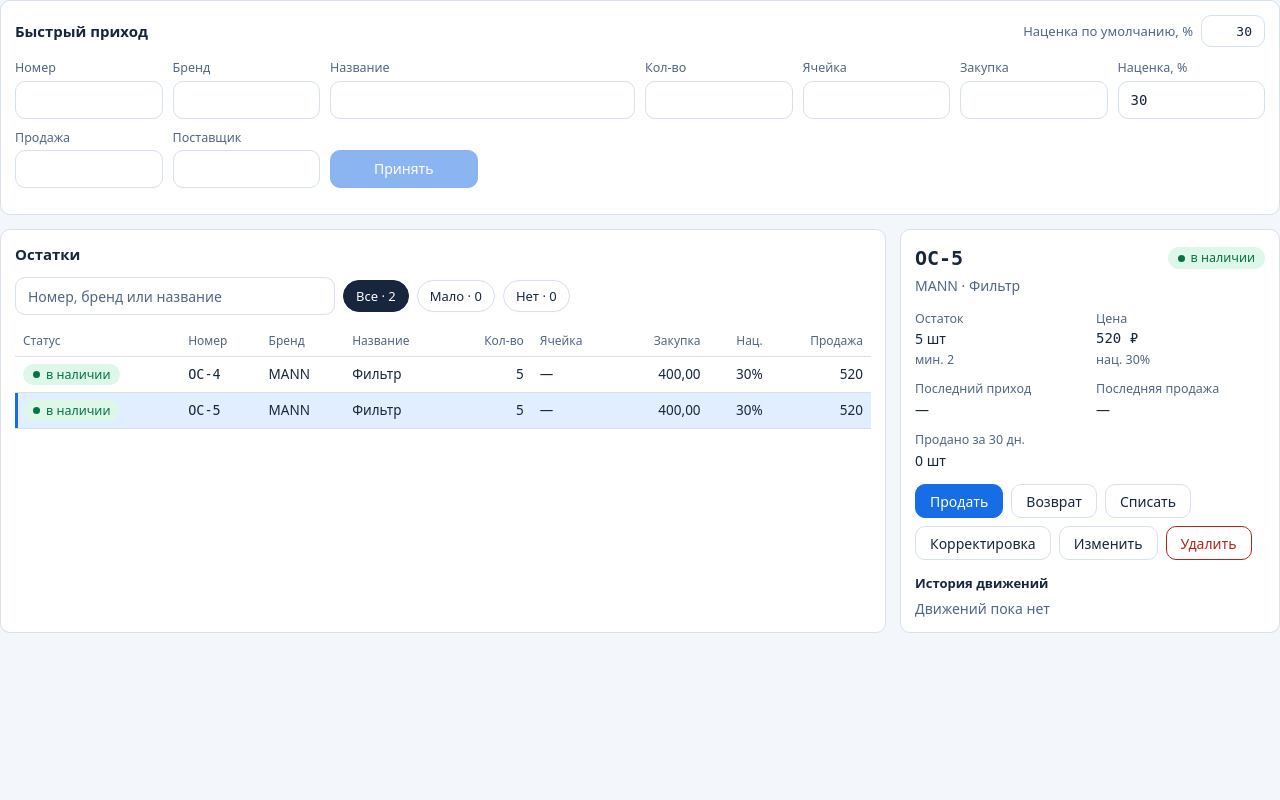
Test: clears the selection and flashes after deleting an item
Click the button "Удалить".
click(1209, 543)  # box [1166,526,1252,560]
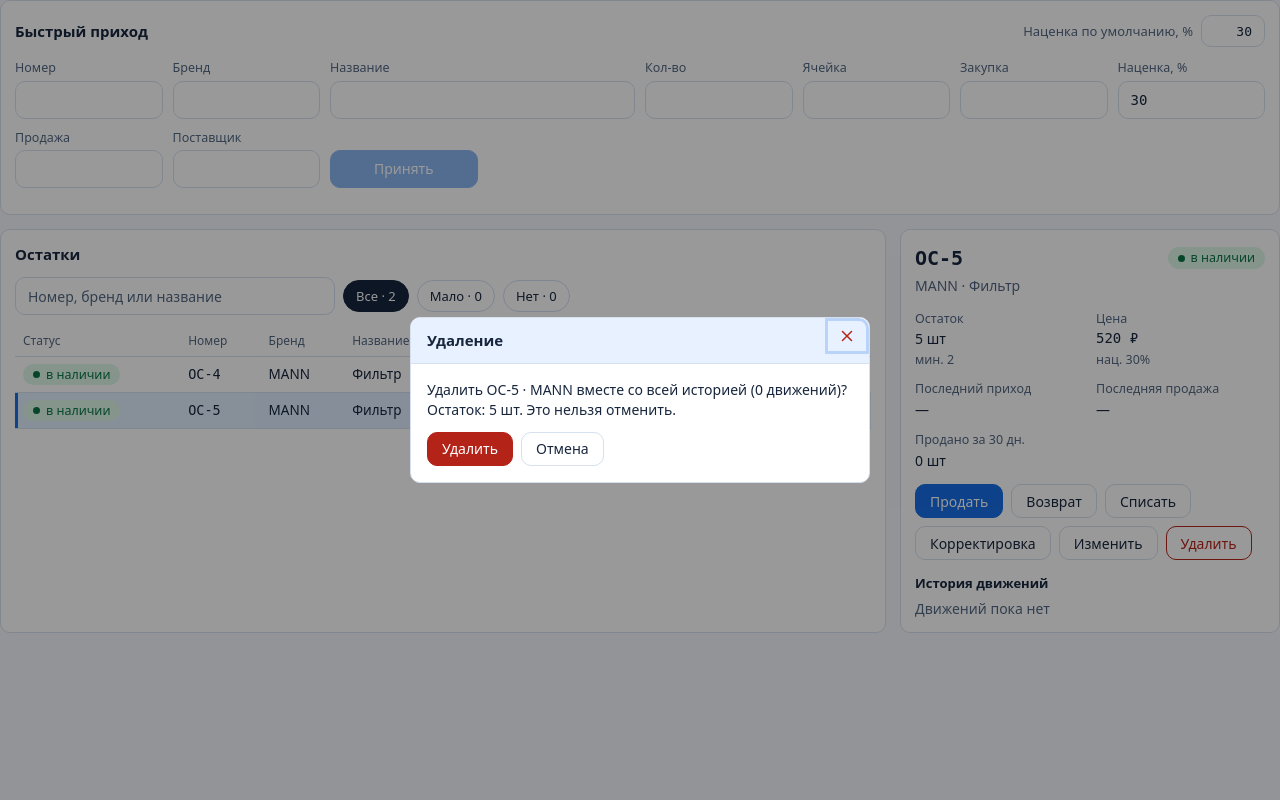
Click the button "Удалить" below "Удаление".
click(470, 449)  # box [427,432,513,466]
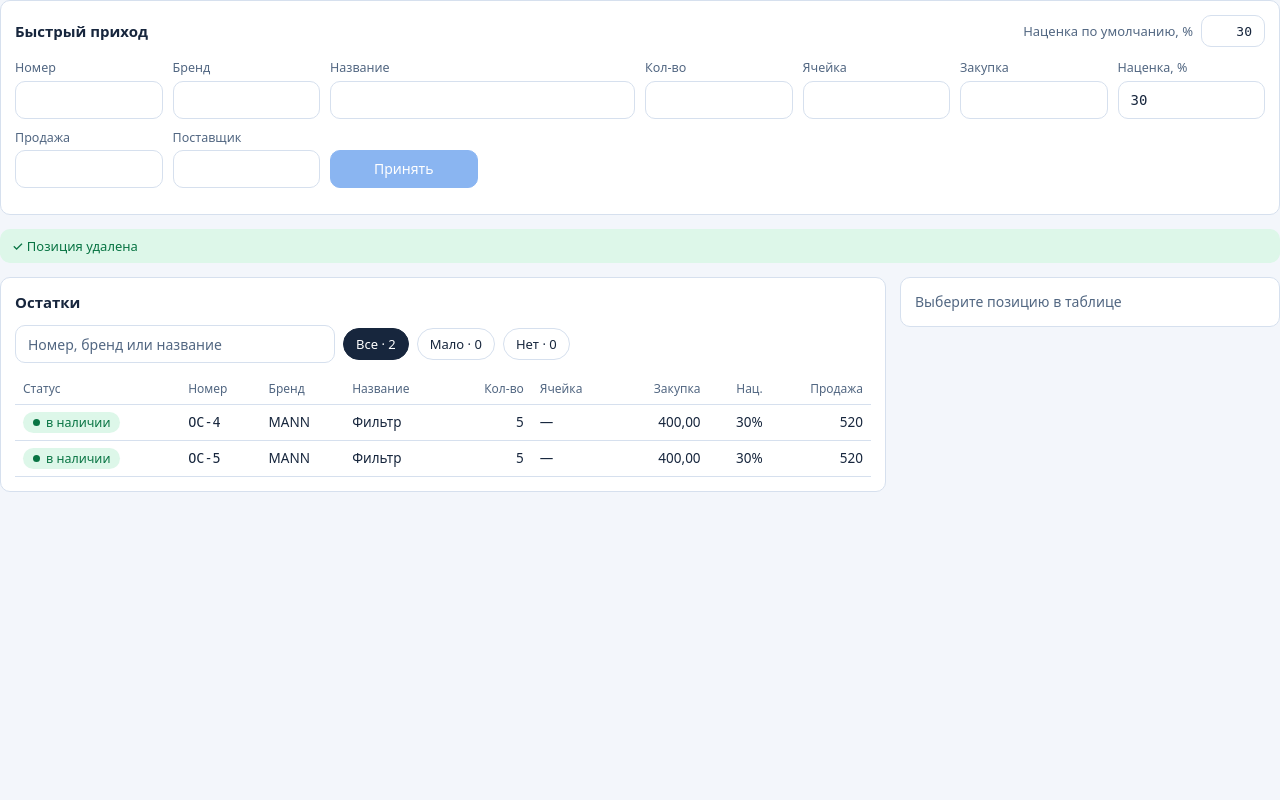
Expected: the text "✓ Позиция удалена" is shown, [0,229,1279,263]
Expected: the text "Выберите позицию в таблице" is shown, [915,292,1122,311]
